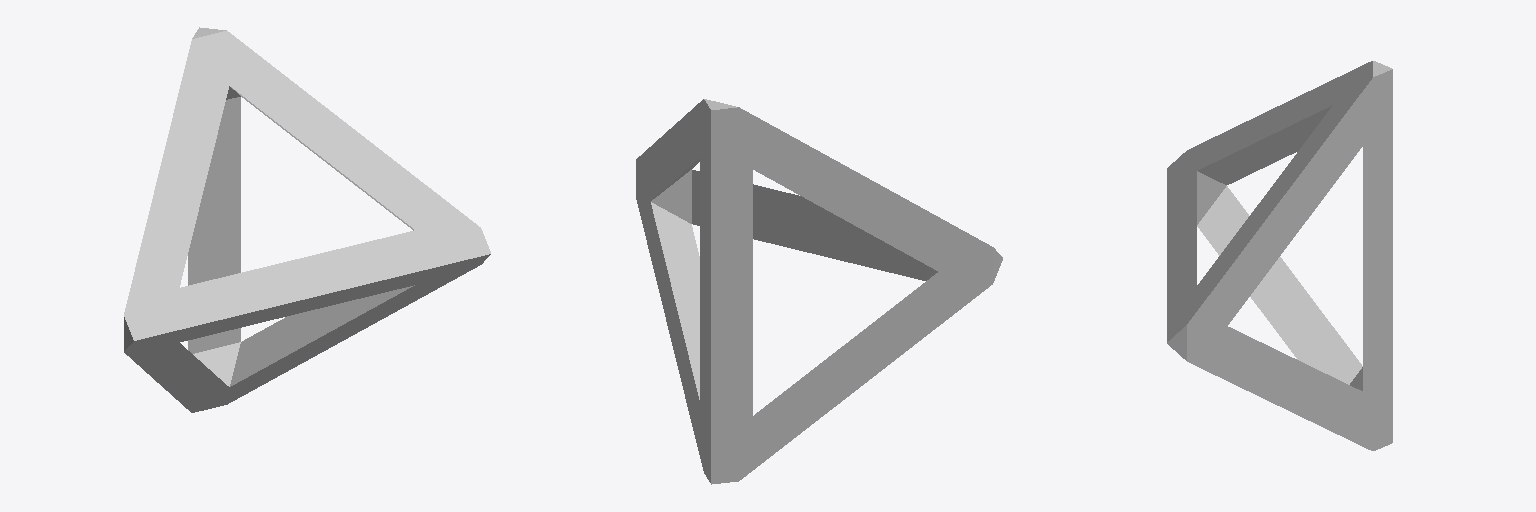
The model's file is small.obj.
3 renders of one model, left to right at view 1: azimuth 30°, elevation 25°; view 2: azimuth 150°, elevation 25°; view 3: azimuth 270°, elevation 25°, orthographic.
Bounding box in the file's own units: 3.64 × 3.64 × 2.